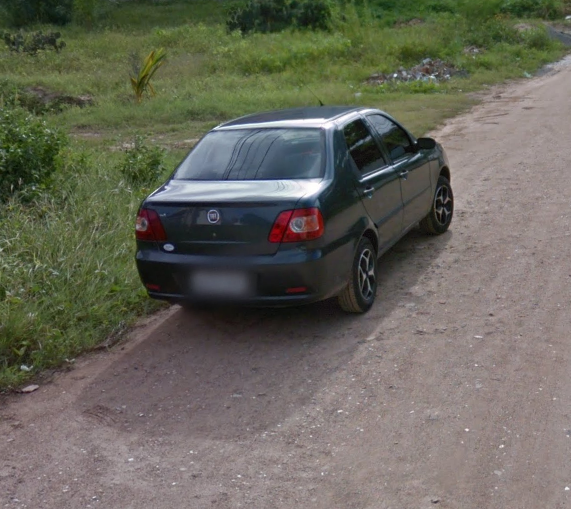car: (131, 78, 454, 320)
